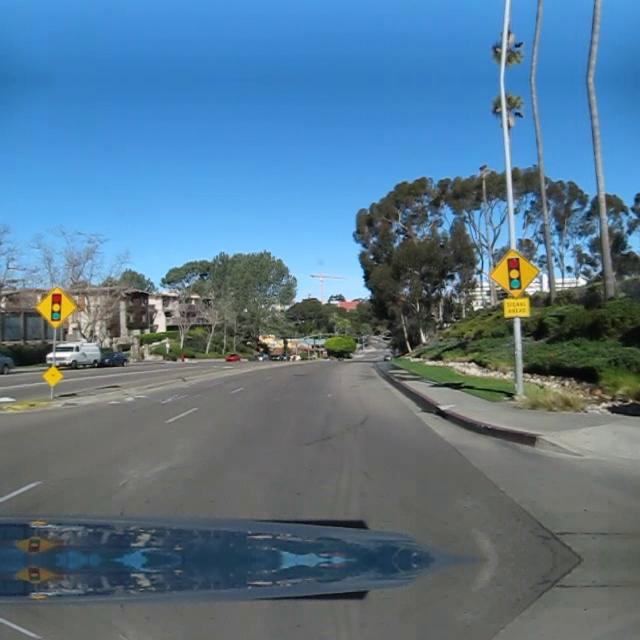signalAhead: (488, 248, 540, 298), (35, 284, 77, 328)
